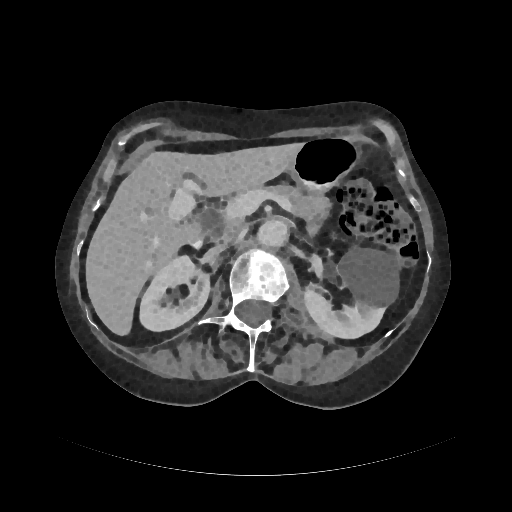Lesion: (336, 242, 399, 309)
